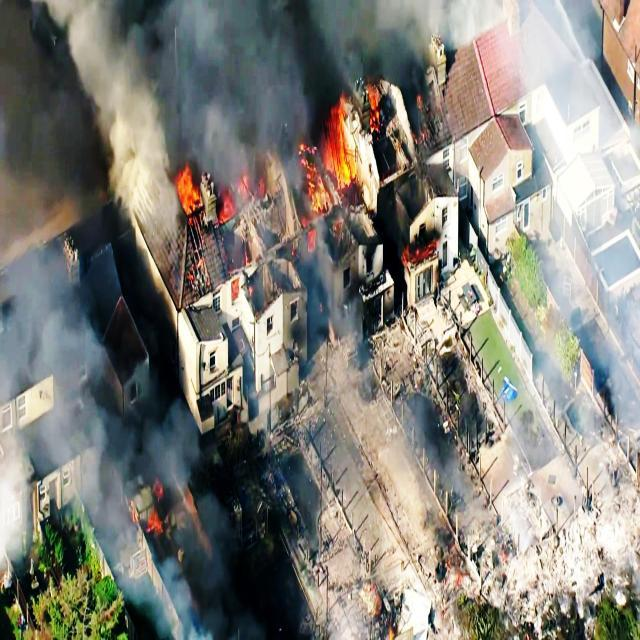Fire: (314, 108, 362, 190), (173, 147, 206, 217), (300, 162, 340, 208)
Smoke: (131, 0, 289, 141), (226, 0, 414, 69)
